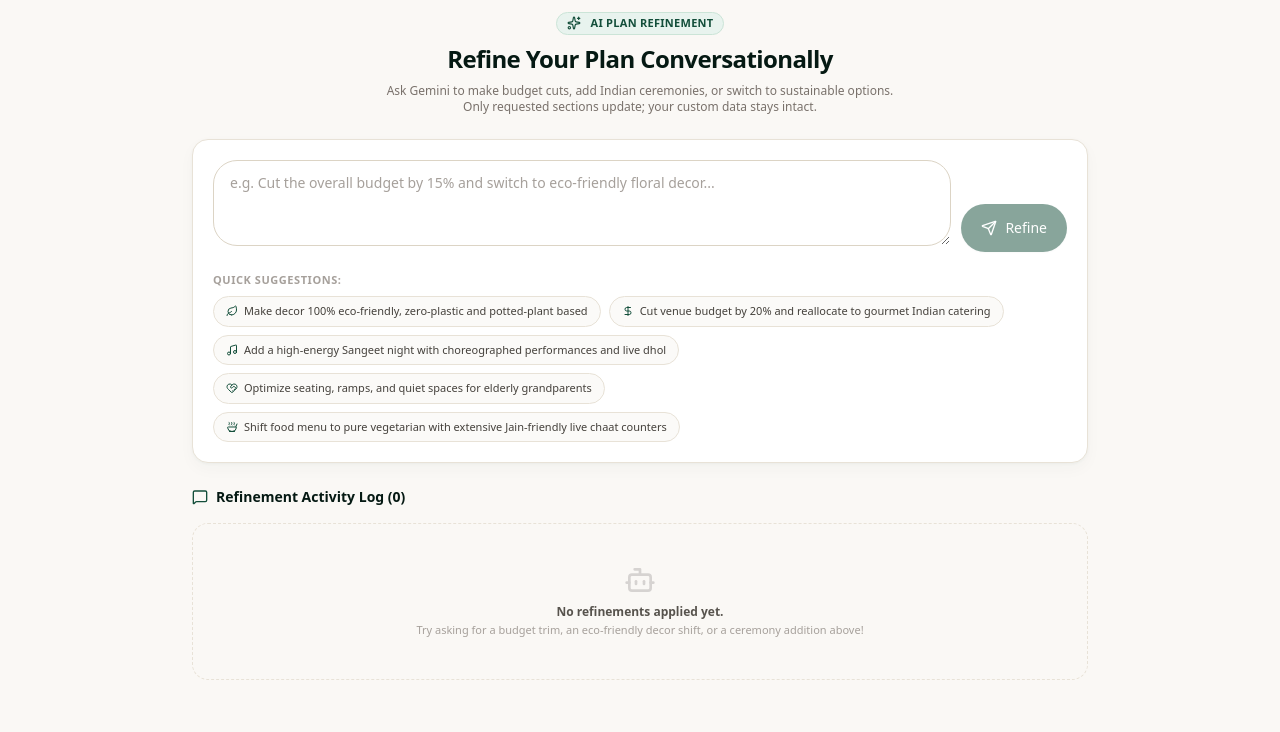
Test: RefineTab Component › shows no "Sections updated" when the plan is unchanged, and renders neutral notice
This screenshot has width=1280, height=732.
Replace the text in the text box named "refinement request" with "Make no changes to the plan" at point(582, 202), box [213,160,951,246]
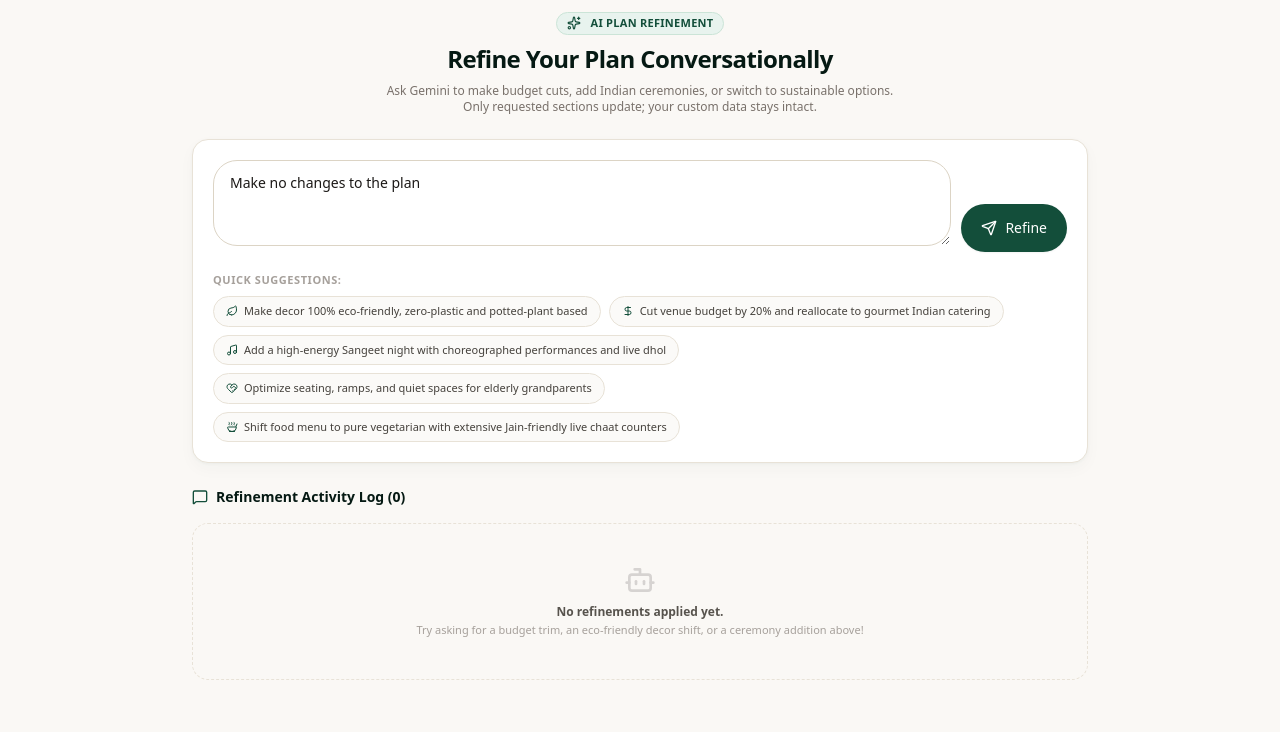
Click the button "Refine" at point(1014, 228), box [961,204,1067,252]
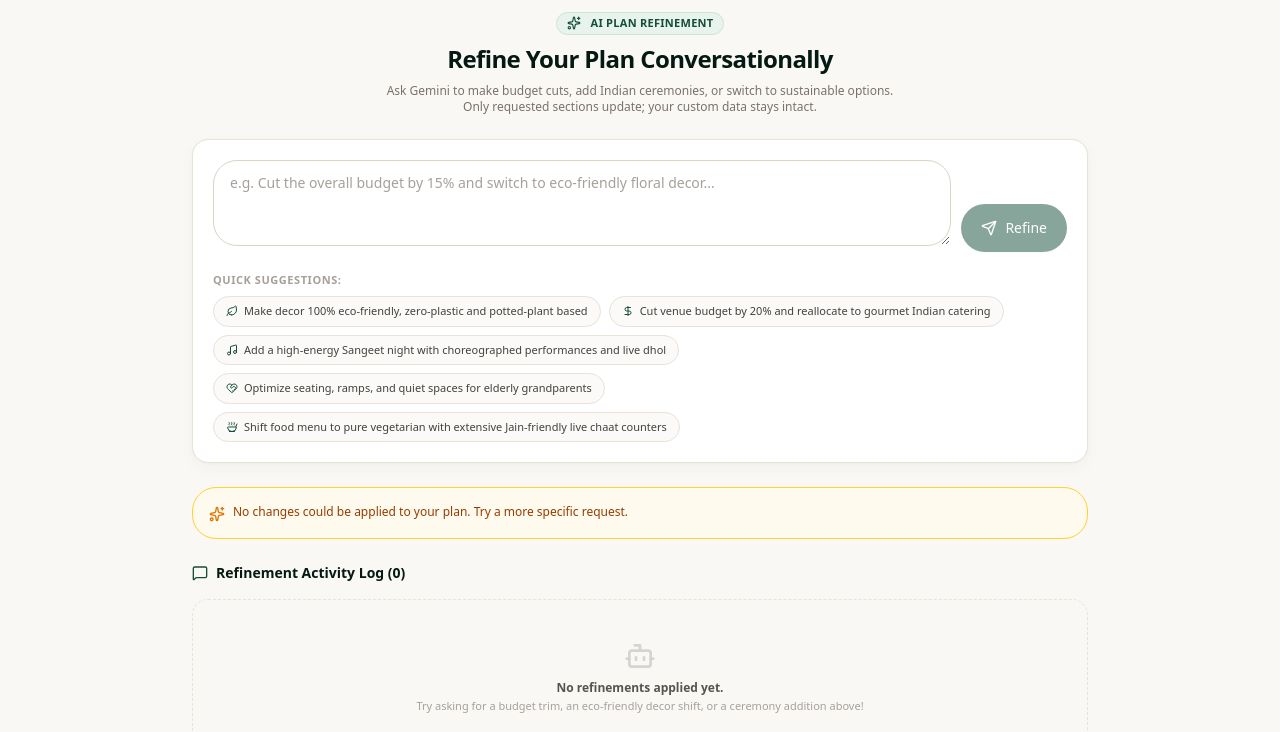
Expected: the text "No changes could be applied to your plan" is shown, [233,503,628,520]
